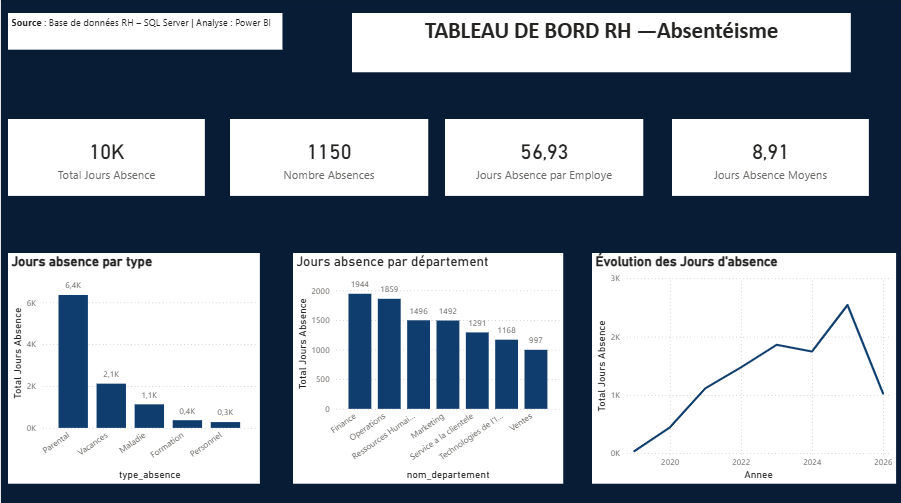

The page's visual inventory and layout, read from the dashboard file:
{"tool":"powerbi","page":{"name":"Absentéisme","canvas":[1280,720],"ordinal":3},"visuals":[{"type":"card","fields":{"Values":["Absences.Total Jours Absence"]},"box":[10.1,169.9,279.4,109.4],"z":0},{"type":"card","fields":{"Values":["Absences.Nombre Absences"]},"box":[324.6,170.1,280.6,109.1],"z":1000},{"type":"card","fields":{"Values":["Absences.Jours Absence par Employe"]},"box":[629.3,170.1,280.6,109.1],"z":2000},{"type":"card","fields":{"Values":["Absences.Jours Absence Moyens"]},"box":[950.4,169.9,279.4,109.4],"z":3000},{"type":"clusteredColumnChart","title":"Jours absence par type","fields":{"Category":["Absences.type_absence"],"Y":["Absences.Total Jours Absence"]},"box":[10.1,360,357.1,326.9],"z":4000},{"type":"clusteredColumnChart","title":"Jours absence par département","fields":{"Category":["Departements.nom_departement"],"Y":["Absences.Total Jours Absence"]},"box":[413.3,360,383,326.9],"z":5000},{"type":"lineChart","title":"Évolution des Jours d''absence","fields":{"Category":["Calendrier.Annee"],"Y":["Absences.Total Jours Absence"]},"box":[838.1,360,430.6,326.9],"z":6000},{"type":"textbox","box":[430.9,72.3,659.1,97.8],"z":7000},{"type":"textbox","box":[10.1,20.2,388.8,51.8],"z":8000}]}

Visuals, with their boxes in screenshot pixels (x1, y1, x2, y2), scaled from the page's 1280x720 canvas onto the 901x503 screenshot:
card - Absences.Total Jours Absence: detection(7, 119, 204, 195)
card - Absences.Nombre Absences: detection(228, 119, 426, 195)
card - Absences.Jours Absence par Employe: detection(443, 119, 640, 195)
card - Absences.Jours Absence Moyens: detection(669, 119, 866, 195)
"Jours absence par type" clusteredColumnChart: detection(7, 252, 258, 480)
"Jours absence par département" clusteredColumnChart: detection(291, 252, 561, 480)
"Évolution des Jours d''absence" lineChart: detection(590, 252, 893, 480)
textbox: detection(303, 51, 767, 119)
textbox: detection(7, 14, 281, 50)
